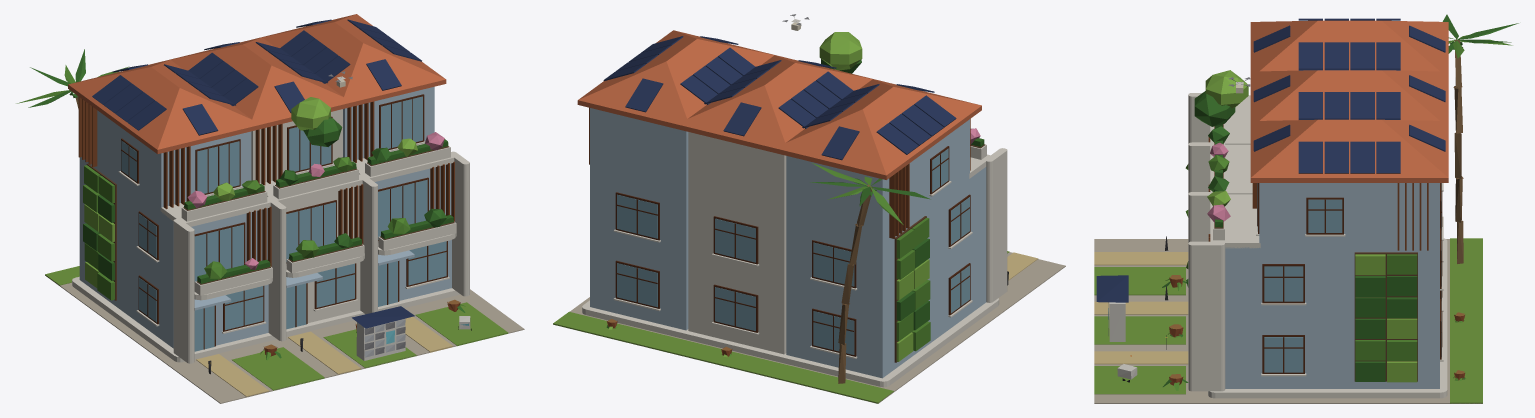
The model's file is home_3.glb.
The picture shows the model from 3 angles, left to right: view 1: azimuth 30°, elevation 25°; view 2: azimuth 150°, elevation 25°; view 3: azimuth 270°, elevation 25°; orthographic projection. The views are drawn at different scales.
Parts seen in each view (by area): view 1: body; view 2: body; view 3: body.
Boxes of the visible parts, box(x1,y1,x2,y2) form: body: box(16, 14, 524, 403); body: box(553, 14, 1065, 403); body: box(1094, 14, 1518, 403).
Bounding box in the file's own units: 17.67 × 12.06 × 17.44.
